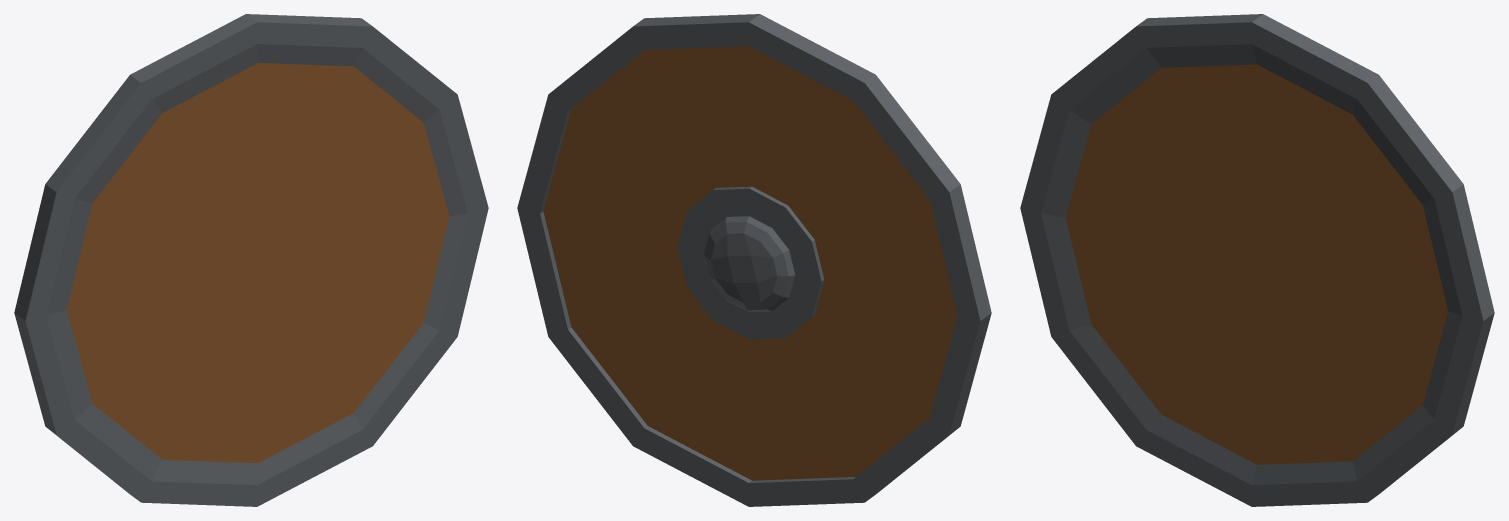
The model's file is Shield.fbx.
3 renders of one model, left to right at view 1: azimuth 30°, elevation 25°; view 2: azimuth 150°, elevation 25°; view 3: azimuth 330°, elevation 25°, orthographic.
Visible parts, largest first — view 1: Shield.004_Global_Wood_0, Shield.004_Global_Metal_0; view 2: Shield.004_Global_Wood_0, Shield.004_Global_Metal_0; view 3: Shield.004_Global_Wood_0, Shield.004_Global_Metal_0.
Part boxes in pixels (x1,y1,x2,y2): Shield.004_Global_Wood_0: (67, 63, 449, 463); Shield.004_Global_Metal_0: (14, 14, 488, 506); Shield.004_Global_Wood_0: (543, 46, 957, 480); Shield.004_Global_Metal_0: (517, 14, 991, 506); Shield.004_Global_Wood_0: (1066, 64, 1448, 464); Shield.004_Global_Metal_0: (1020, 14, 1494, 506).
Bounding box in the file's own units: 145 × 145 × 9.62.
